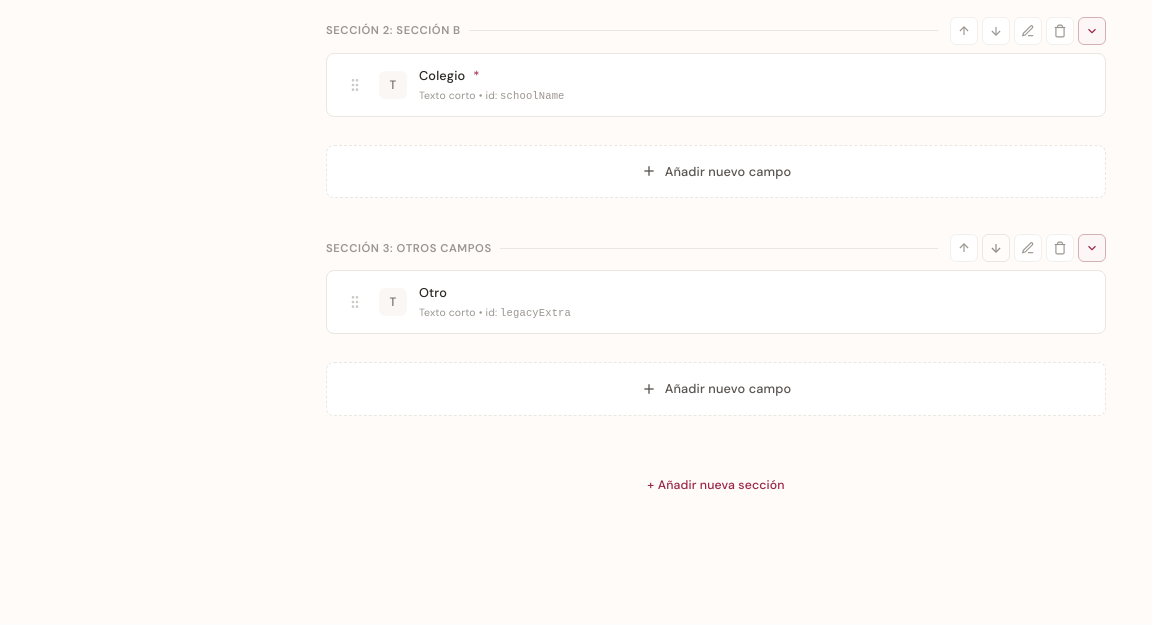
Scenario: StageConfigEditor › appends a newly created section at the end of the section list
(page scrolled)
Step 1. Click the button "+ Añadir nueva sección" → {"x": 716, "y": 486}, box top-left (631, 468), bottom-right (801, 503)
(page scrolled)
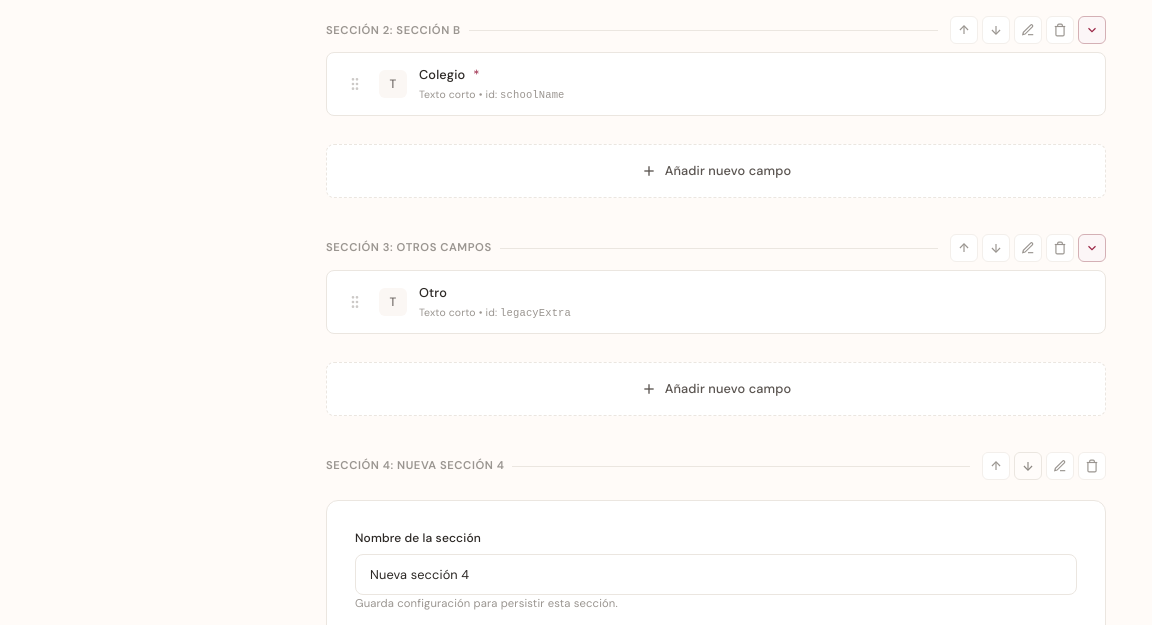
Expected: the text with class "builder-section-title" reads "Sección 4: Nueva sección 4", top-left (326, 458), bottom-right (504, 472)
